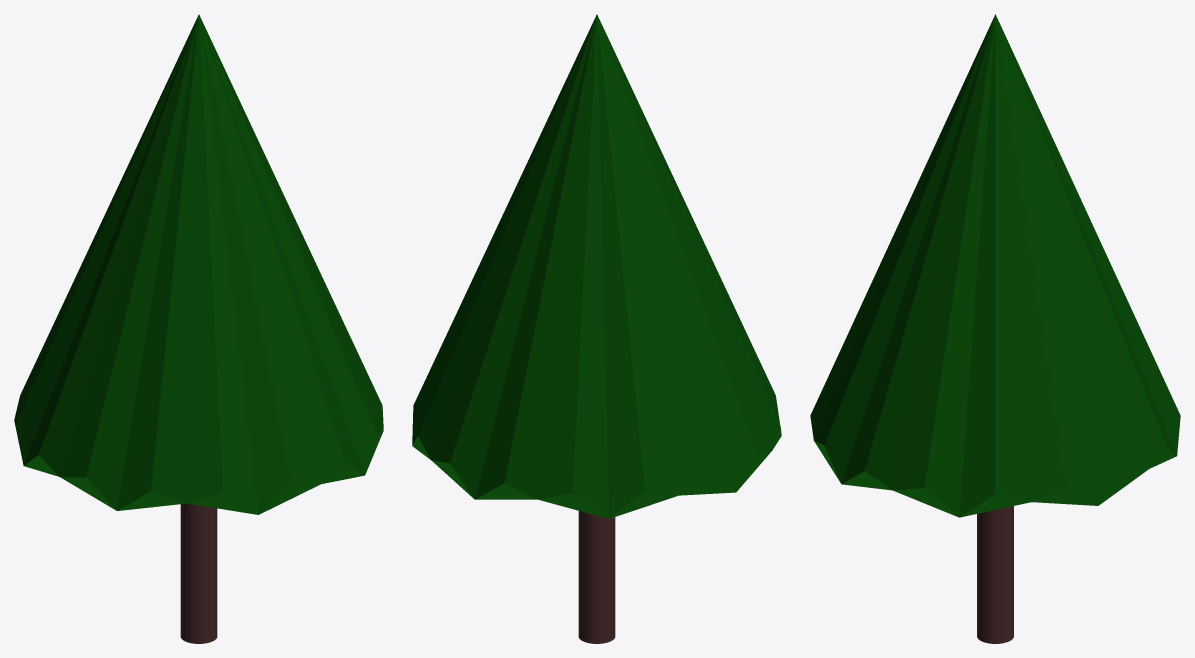
The model's file is fir_2.glb.
3 renders of one model, left to right at view 1: azimuth 30°, elevation 25°; view 2: azimuth 150°, elevation 25°; view 3: azimuth 270°, elevation 25°, orthographic.
Visible parts, largest first — view 1: Cone, Cylinder; view 2: Cone, Cylinder; view 3: Cone, Cylinder.
Part boxes in pixels (x1,y1,x2,y2): Cone: [14, 14, 383, 514]; Cylinder: [180, 503, 217, 643]; Cone: [412, 14, 781, 518]; Cylinder: [578, 511, 615, 643]; Cone: [810, 14, 1180, 517]; Cylinder: [977, 506, 1013, 643].
Size of the model in its own units: 3 by 5.56 by 3.
